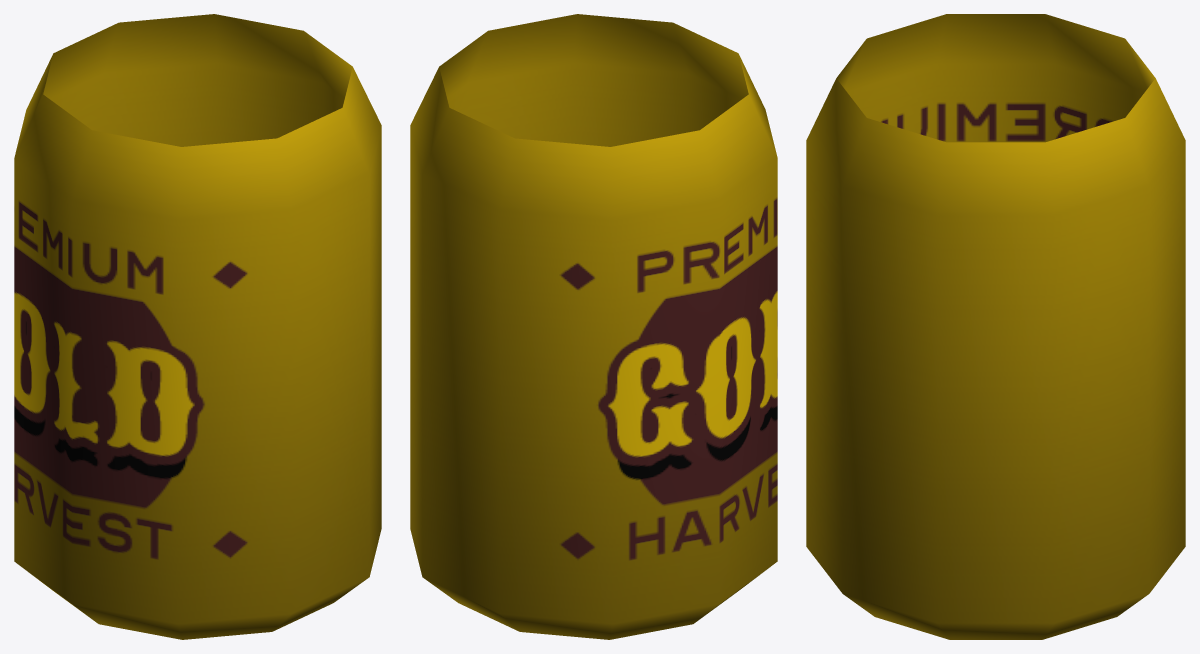
File: Beer_Can_02.fbx
3 views of the same model, side by side, from view 1: azimuth 30°, elevation 25°; view 2: azimuth 150°, elevation 25°; view 3: azimuth 270°, elevation 25° (orthographic).
Parts seen in each view (by area): view 1: Beer_Can_02; view 2: Beer_Can_02; view 3: Beer_Can_02.
Boxes of the visible parts, bbox=[...] form: Beer_Can_02: bbox=[14, 14, 381, 639]; Beer_Can_02: bbox=[410, 14, 777, 639]; Beer_Can_02: bbox=[806, 14, 1185, 639].
Size of the model in its own units: 34.1 by 52.33 by 35.85.
